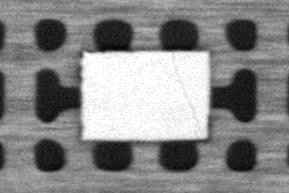DIE_CRACK: (171, 54, 198, 128)
